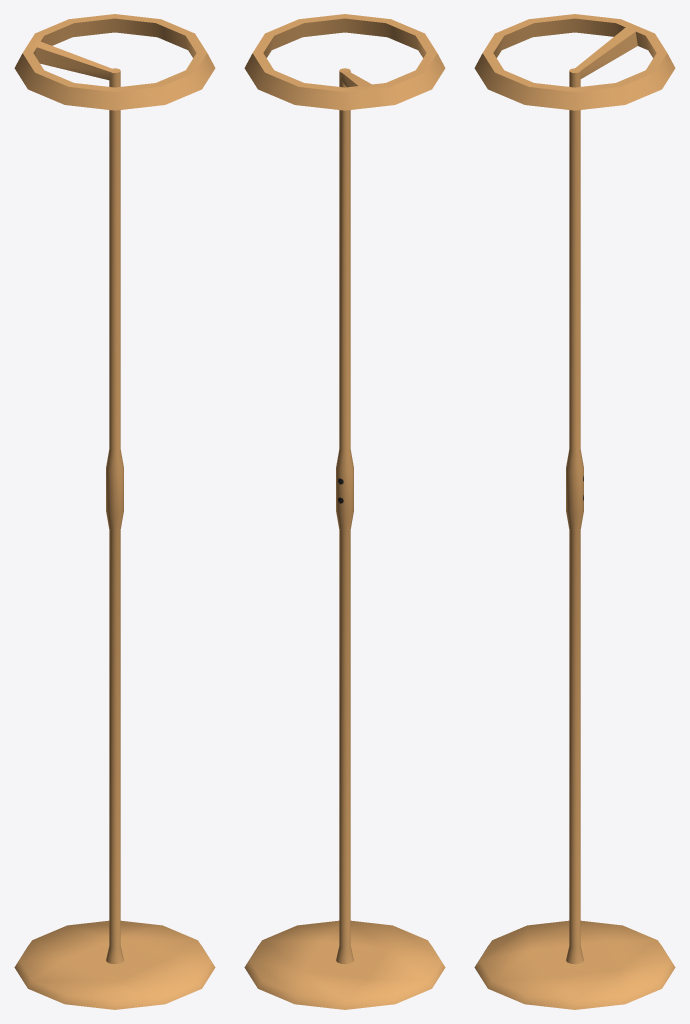
File: Mdl.FloorLamp.fbx
3 views of the same model, side by side, from view 1: azimuth 30°, elevation 25°; view 2: azimuth 150°, elevation 25°; view 3: azimuth 270°, elevation 25° (orthographic).
Visible parts, largest first — view 1: lamp; view 2: lamp; view 3: lamp.
Boxes of the visible parts, <box> form: lamp: <box>14,14,215,1009</box>; lamp: <box>244,14,445,1009</box>; lamp: <box>474,14,675,1009</box>.
Bounding box in the file's own units: 0.385 × 1.93 × 0.385.
1 material, 1 textured.
